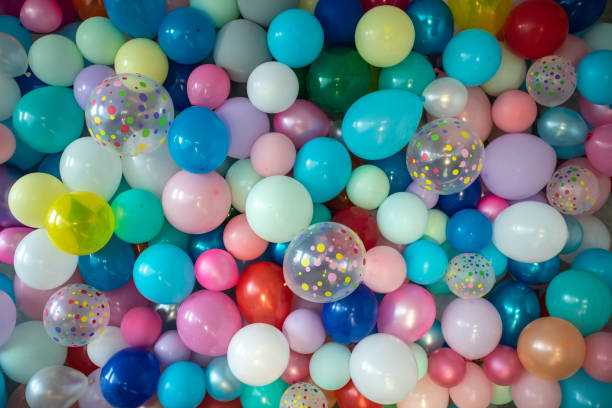Balloon: (84, 75, 175, 155), (283, 222, 364, 301), (341, 89, 423, 159), (406, 119, 484, 192), (351, 333, 418, 403), (481, 133, 554, 197), (246, 176, 312, 243), (163, 169, 230, 235), (516, 317, 586, 380), (494, 202, 566, 263), (46, 191, 114, 255), (14, 86, 83, 149), (546, 268, 612, 333), (43, 283, 110, 346), (168, 107, 231, 174), (228, 323, 291, 386), (176, 291, 239, 354), (132, 245, 196, 305), (355, 5, 415, 68), (292, 136, 350, 201), (14, 228, 79, 286), (505, 1, 570, 58), (443, 297, 502, 358), (100, 347, 159, 408), (156, 6, 215, 65), (440, 28, 501, 85), (377, 284, 437, 341), (59, 139, 122, 193), (268, 9, 325, 68), (237, 262, 287, 326), (109, 187, 162, 242), (246, 61, 299, 114), (29, 34, 82, 86), (525, 55, 577, 107), (9, 173, 59, 227), (546, 165, 599, 215), (26, 367, 89, 408), (104, 1, 168, 40), (379, 192, 426, 242), (157, 362, 207, 408), (445, 253, 496, 297), (77, 16, 117, 69), (223, 215, 270, 260), (251, 133, 296, 178), (193, 248, 239, 292), (538, 108, 591, 146), (403, 238, 446, 284), (491, 90, 538, 132), (281, 309, 328, 351), (446, 209, 492, 251), (363, 246, 405, 292), (310, 343, 351, 390), (422, 76, 466, 119), (186, 64, 230, 107), (577, 50, 612, 104), (347, 165, 388, 207), (122, 306, 161, 348), (484, 345, 520, 386), (19, 1, 64, 33), (583, 332, 612, 380), (430, 348, 465, 387), (1, 33, 28, 78)
